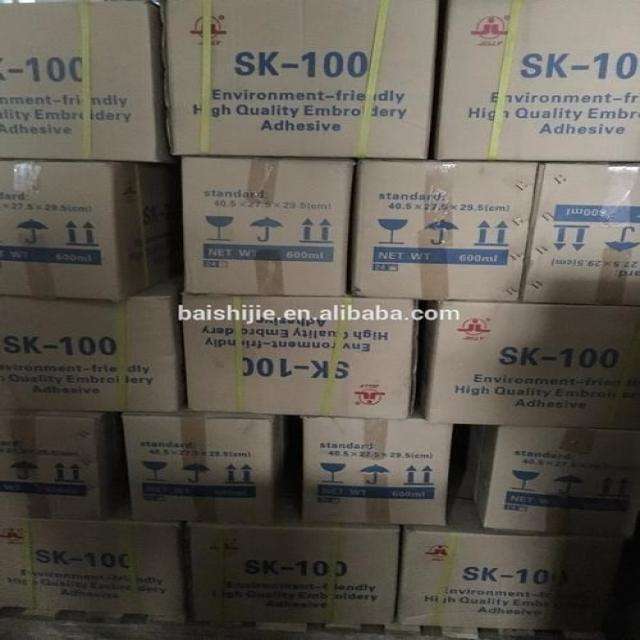Carton: (124, 162, 630, 628), (165, 0, 439, 294), (0, 160, 178, 413), (434, 0, 639, 160), (402, 528, 564, 638), (24, 521, 182, 619)
